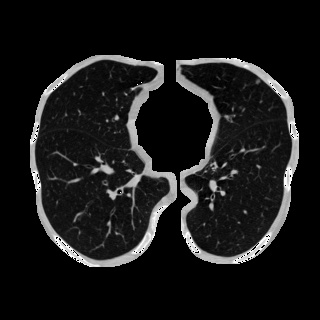PN: (255, 79, 259, 83)
